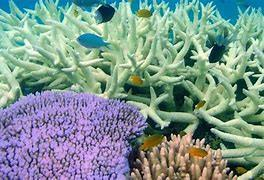bleached_corals: (0, 1, 264, 180)
